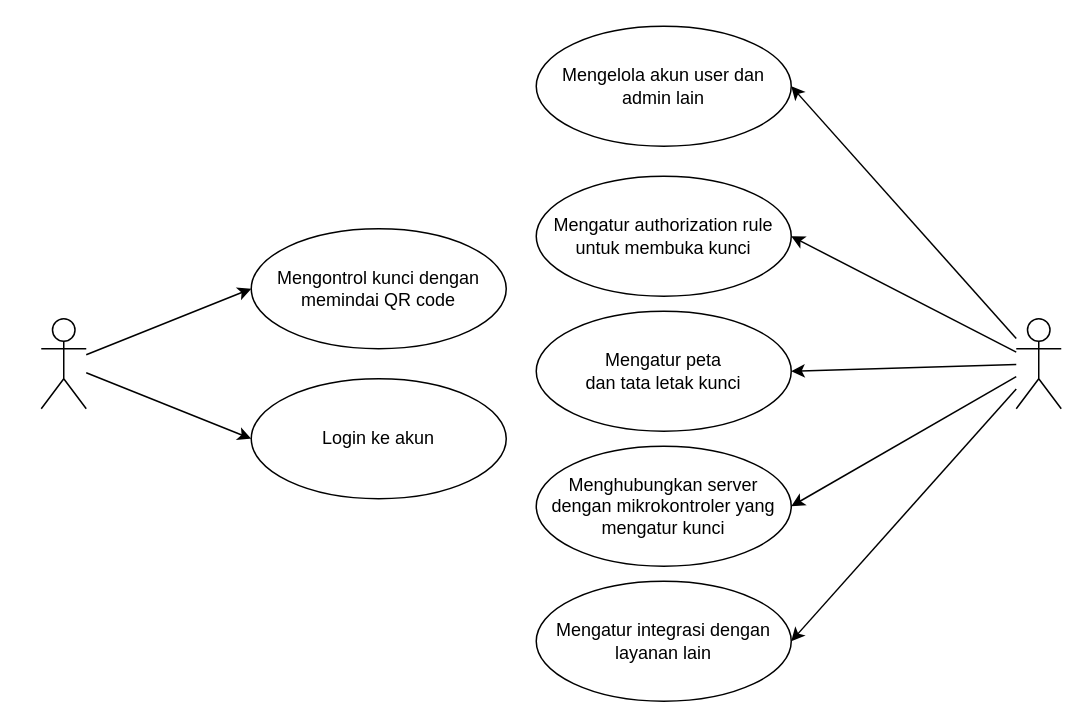
Image size: 1089x728. Some labels were removed from this diagram. The centre of each missing label's shape, as x and y in pixels:
Admin: point (1038, 363)
End User: point (63, 363)
